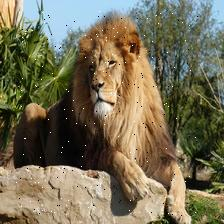Lion: (17, 11, 200, 216)
